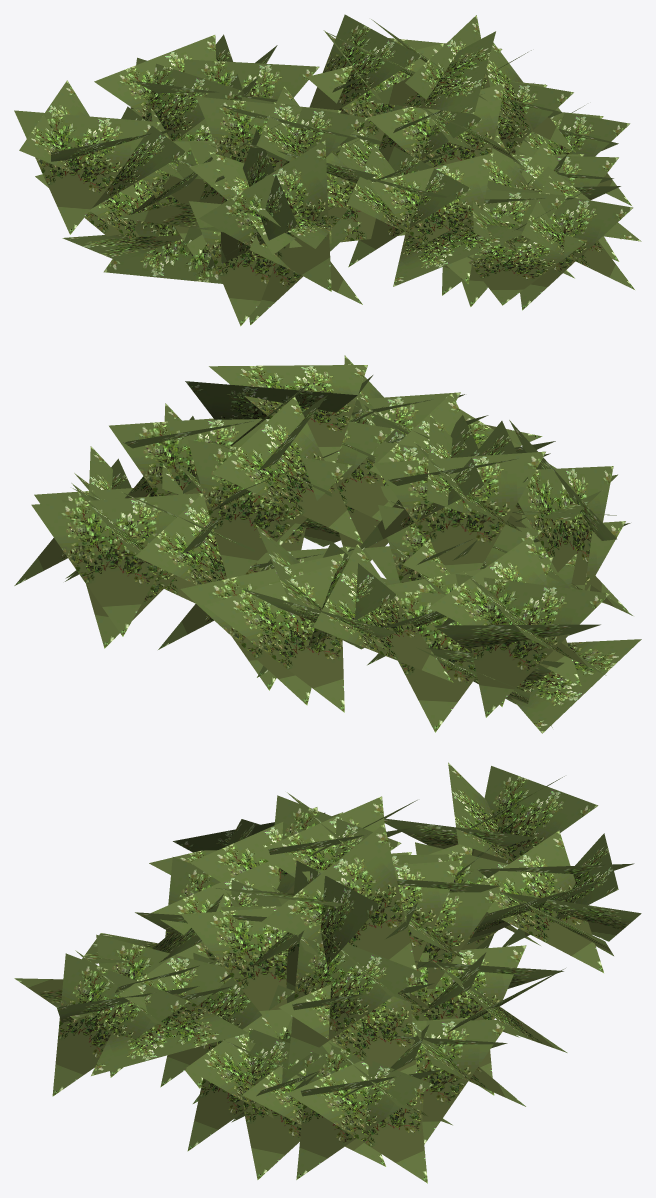
Rendered from tree_baobab_top_c.dae.
The picture shows the model from 3 angles, top to bottom: view 1: azimuth 30°, elevation 25°; view 2: azimuth 150°, elevation 25°; view 3: azimuth 270°, elevation 25°; orthographic projection. The views are drawn at different scales.
Visible parts, largest first — view 1: canopy158-Pivot; view 2: canopy158-Pivot; view 3: canopy158-Pivot.
Boxes of the visible parts, <box> form: canopy158-Pivot: <box>14,14,641,326</box>; canopy158-Pivot: <box>14,355,641,733</box>; canopy158-Pivot: <box>14,762,641,1183</box>.
Bounding box in the file's own units: 25.64 × 23.69 × 10.48.
